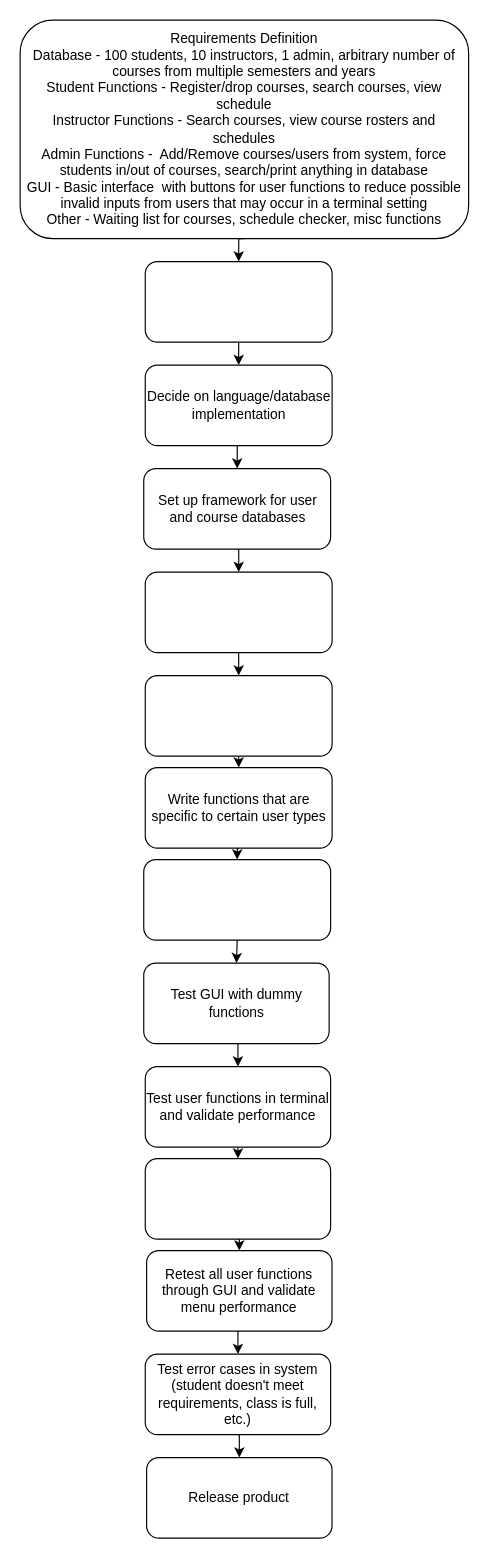
Image size: 489x1558. Some labels were removed from this diagram. Each missing label, with the centre of its shape:
Determine necessary functions and architecture: point (238, 301)
Modify functions to take user input from GUI: point (237, 1198)
Write classes for database objects (student, instructor, admin and course): point (238, 612)
Write functions that are shared by all user types: point (238, 715)
Write GUI with different interfaces for different user types: point (237, 899)
